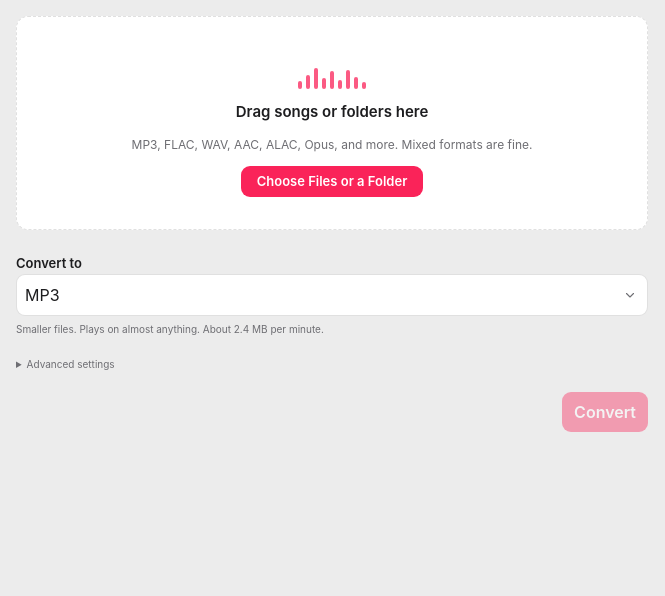
Scenario: SetupView - advanced settings caption switches by codec kind (SetupView.swift:182-204) › shows the lossy explanation and Quality picker for a lossy codec
Click the heading "Advanced settings" at (71, 364), box [27,358,115,370]
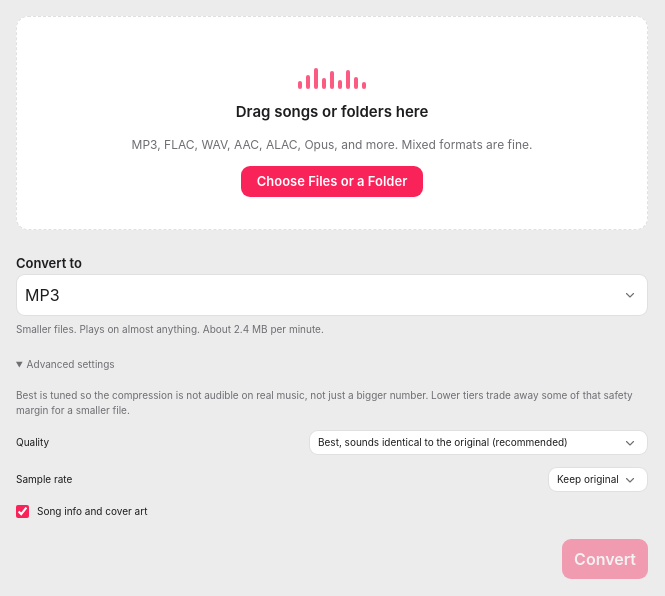
Expected: the text "Best is tuned so the compression is not audible" is shown, [16,389,633,416]
Expected: the text "Quality" is shown, [16,435,49,450]
